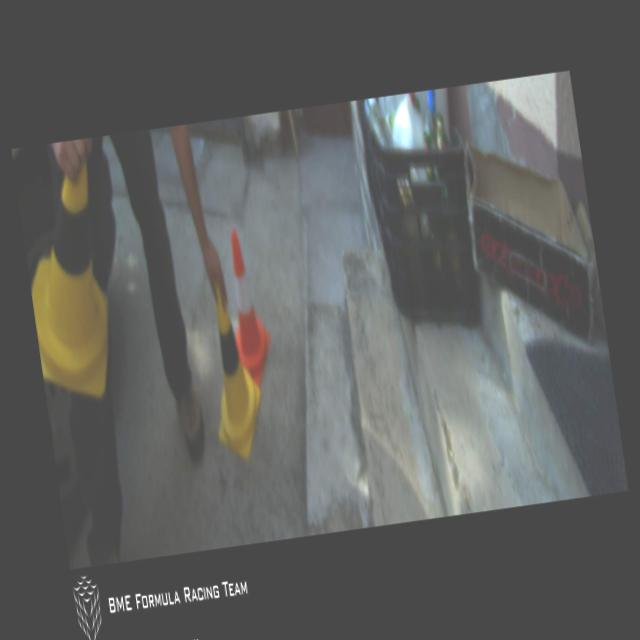orange_cone: (220, 227, 277, 390)
yellow_cone: (12, 138, 122, 402), (197, 275, 270, 461)
